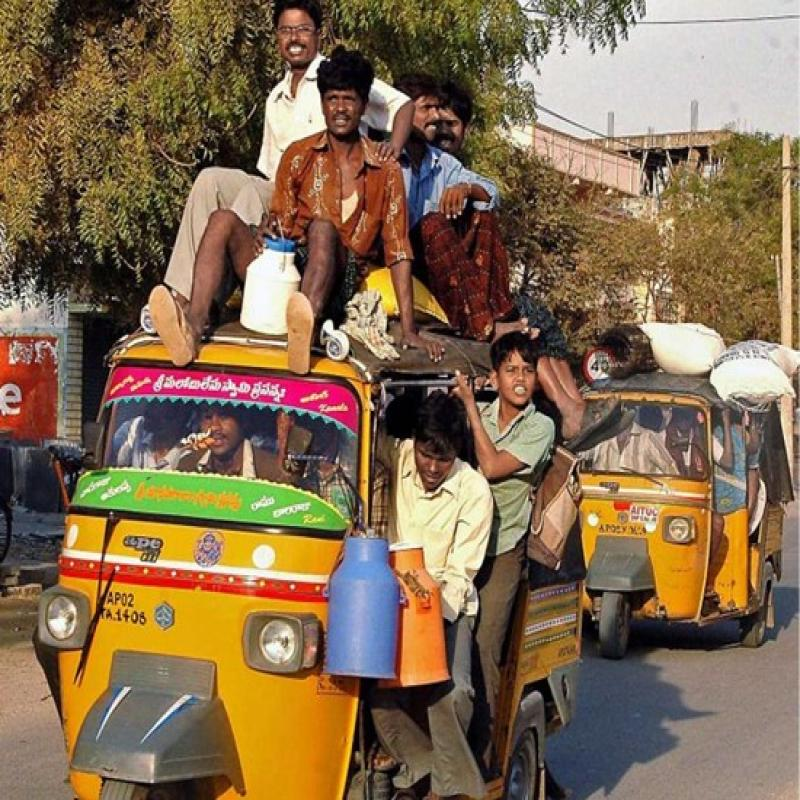bike: (83, 327, 565, 795)
